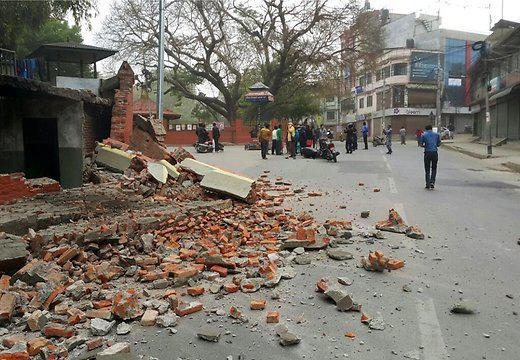destroyed: (0, 32, 180, 249)
